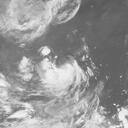cyclone: (41, 61, 84, 96)
